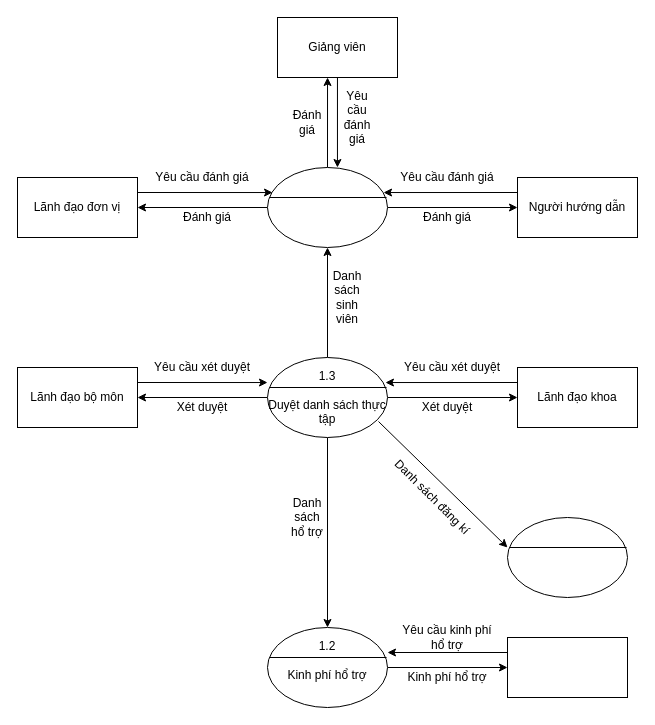
Some shapes in this 655 by 725 pixel diagram are drawn without their labels. The centre of each missing label's shape, as x and y in pixels:
1.1 Đăng kí thực tập: the point at 567,557
1.4 Đánh giá kết quả thực tập: the point at 327,207
Sinh viên: the point at 567,667
